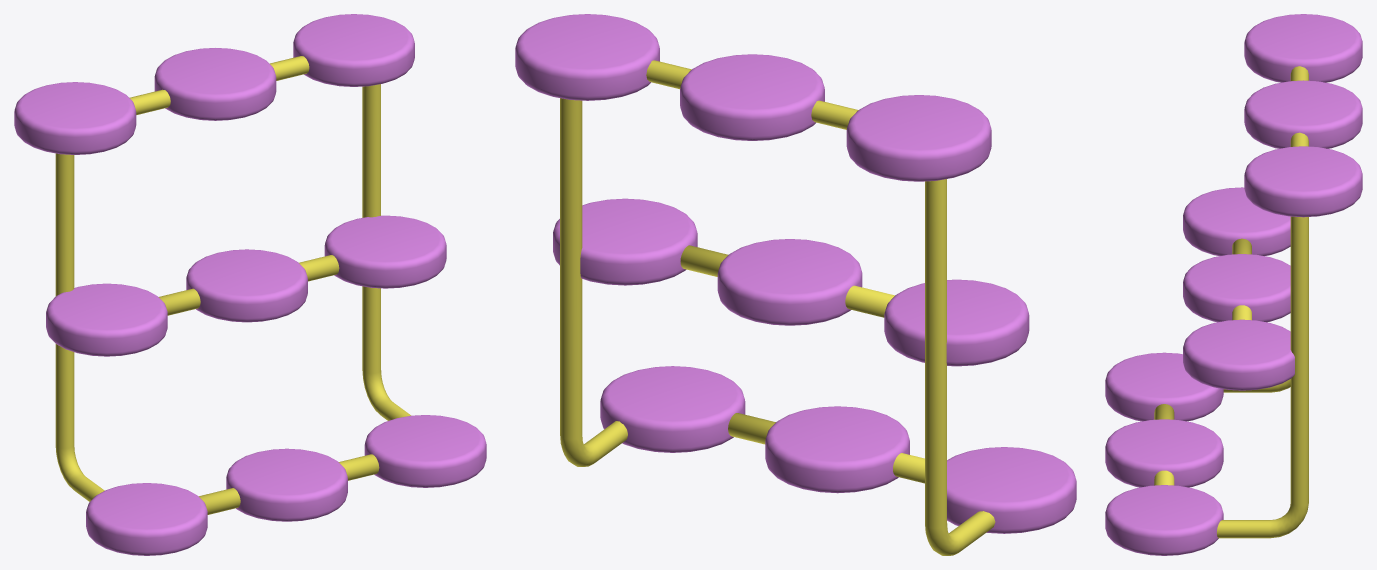
Rendered from bebekTezgah.fbx.
3 views of the same model, side by side, from view 1: azimuth 30°, elevation 25°; view 2: azimuth 150°, elevation 25°; view 3: azimuth 270°, elevation 25° (orthographic). The views are drawn at different scales.
Visible parts, largest first — view 1: bebekTezgah; view 2: bebekTezgah; view 3: bebekTezgah.
Boxes of the visible parts, x1,y1,x2,y2 form: bebekTezgah: (14,14,486,555); bebekTezgah: (515,14,1076,555); bebekTezgah: (1105,14,1362,555).
Bounding box in the file's own units: 541 × 504 × 323.
